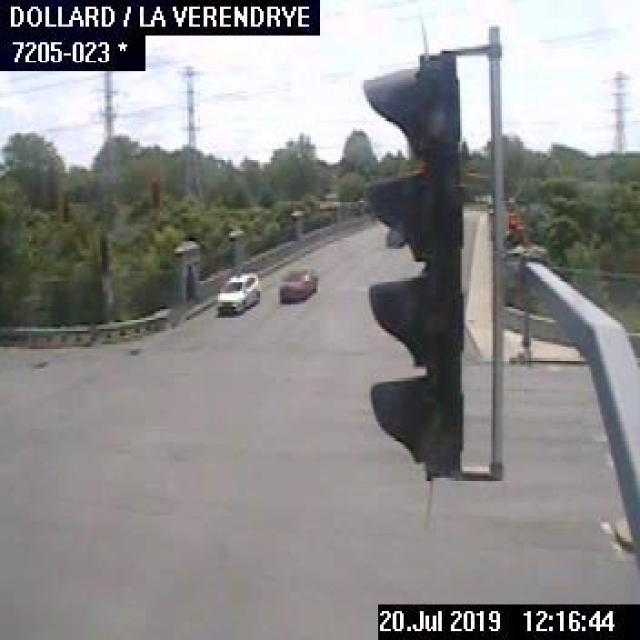vehicle: (214, 269, 262, 313), (275, 264, 316, 302)
